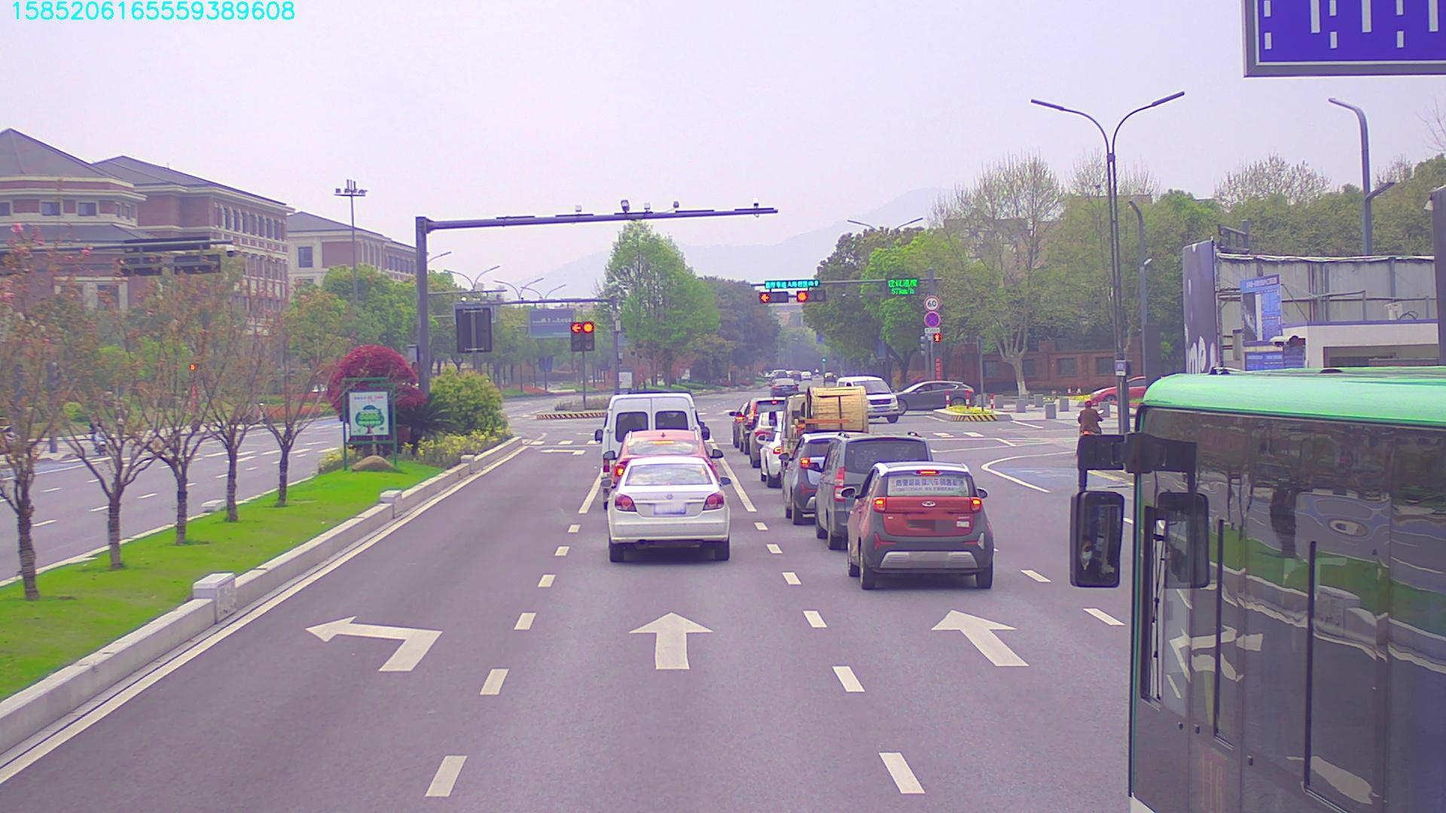red: (755, 288, 786, 303), (795, 291, 828, 300)
wait_on: (764, 279, 822, 290)
